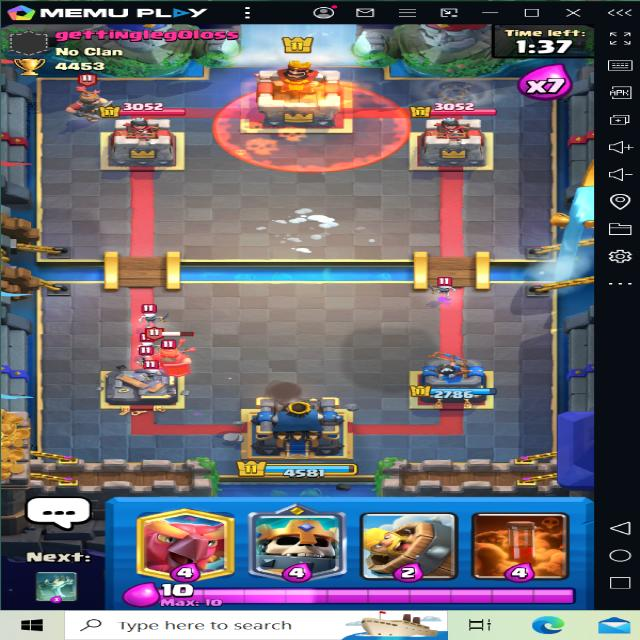poison: (207, 80, 411, 172)
royal-recruits: (67, 74, 120, 124), (147, 340, 195, 377)
skeleton: (131, 366, 159, 382), (428, 278, 455, 294), (140, 307, 160, 326)
tornado: (404, 72, 513, 120)
